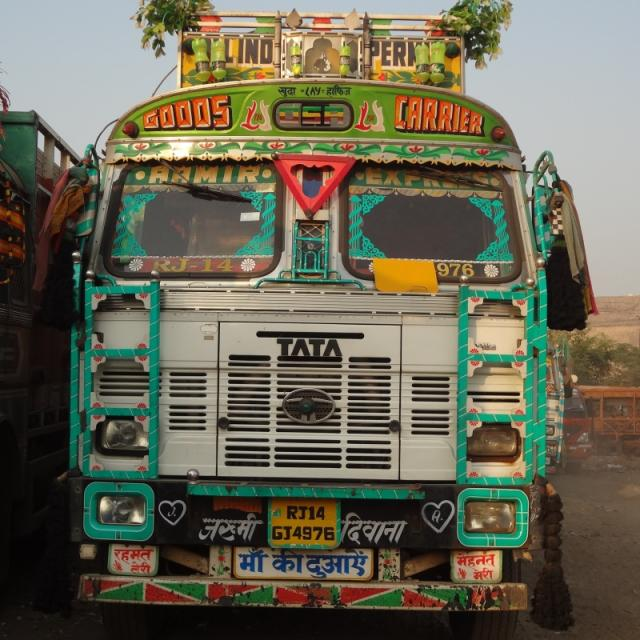Truck: (66, 18, 564, 624)
